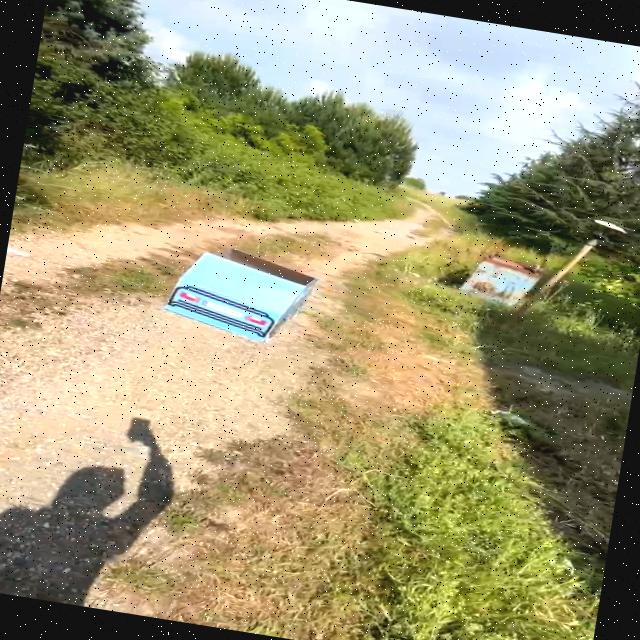blue_car: (145, 229, 322, 362)
